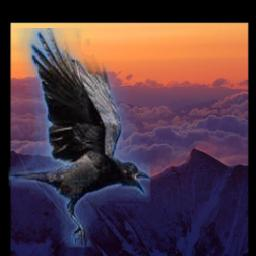Crow: (10, 29, 151, 248)
